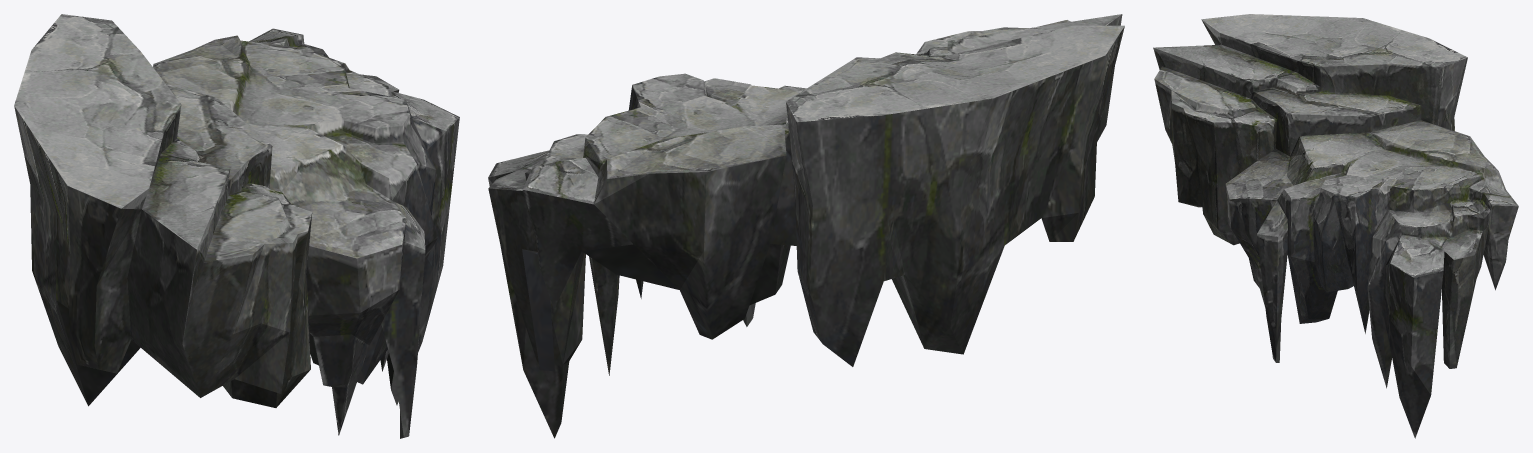
File: 5001_Item_shitou_1.FBX
3 renders of one model, left to right at view 1: azimuth 30°, elevation 25°; view 2: azimuth 150°, elevation 25°; view 3: azimuth 270°, elevation 25°, orthographic. The views are drawn at different scales.
Visible parts, largest first — view 1: 5001_Item_shitou_1; view 2: 5001_Item_shitou_1; view 3: 5001_Item_shitou_1.
Part boxes in pixels (bbox=[...]): 5001_Item_shitou_1: bbox=[14, 14, 459, 438]; 5001_Item_shitou_1: bbox=[488, 14, 1124, 438]; 5001_Item_shitou_1: bbox=[1153, 14, 1518, 438].
Bounding box in the file's own units: 419 × 337 × 390.
